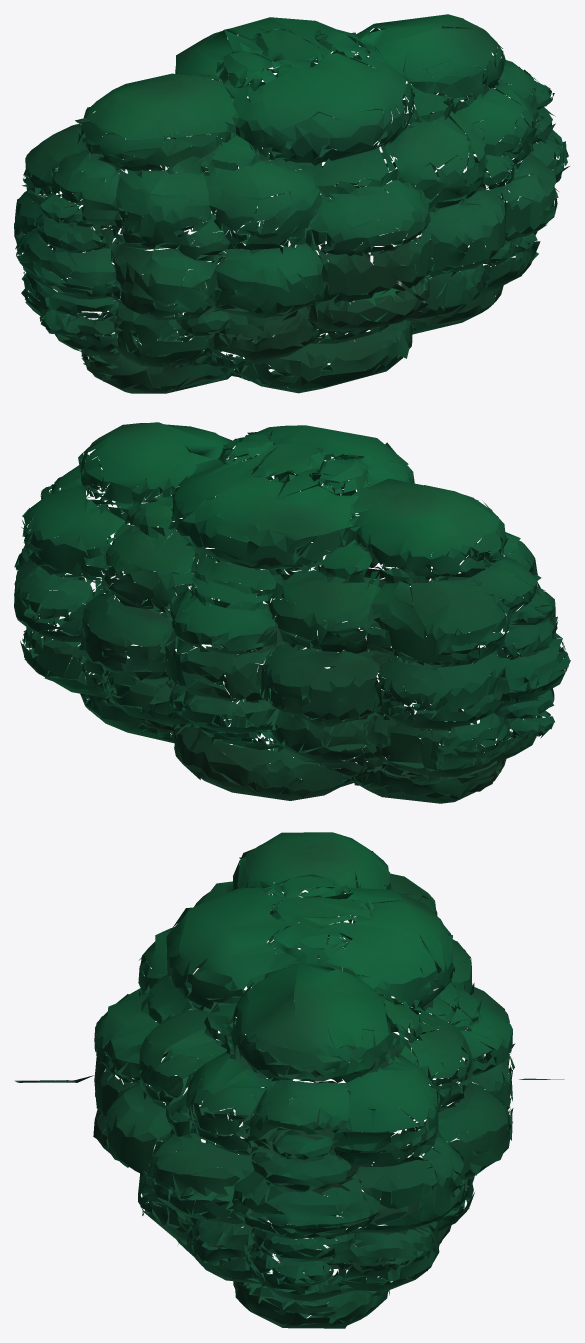
File: Jungle_CanopyMass.glb
3 renders of one model, top to bottom at view 1: azimuth 30°, elevation 25°; view 2: azimuth 150°, elevation 25°; view 3: azimuth 270°, elevation 25°, orthographic. The views are drawn at different scales.
Parts seen in each view (by area): view 1: CanopyMass_Body; view 2: CanopyMass_Body; view 3: CanopyMass_Body.
Part boxes in pixels (left/top/right/bottom): CanopyMass_Body: left=14, top=14, right=569, bottom=393; CanopyMass_Body: left=14, top=422, right=570, bottom=803; CanopyMass_Body: left=14, top=832, right=564, bottom=1328.
Bounding box in the file's own units: 6.33 × 3.72 × 5.18.
1 material, 1 textured.
